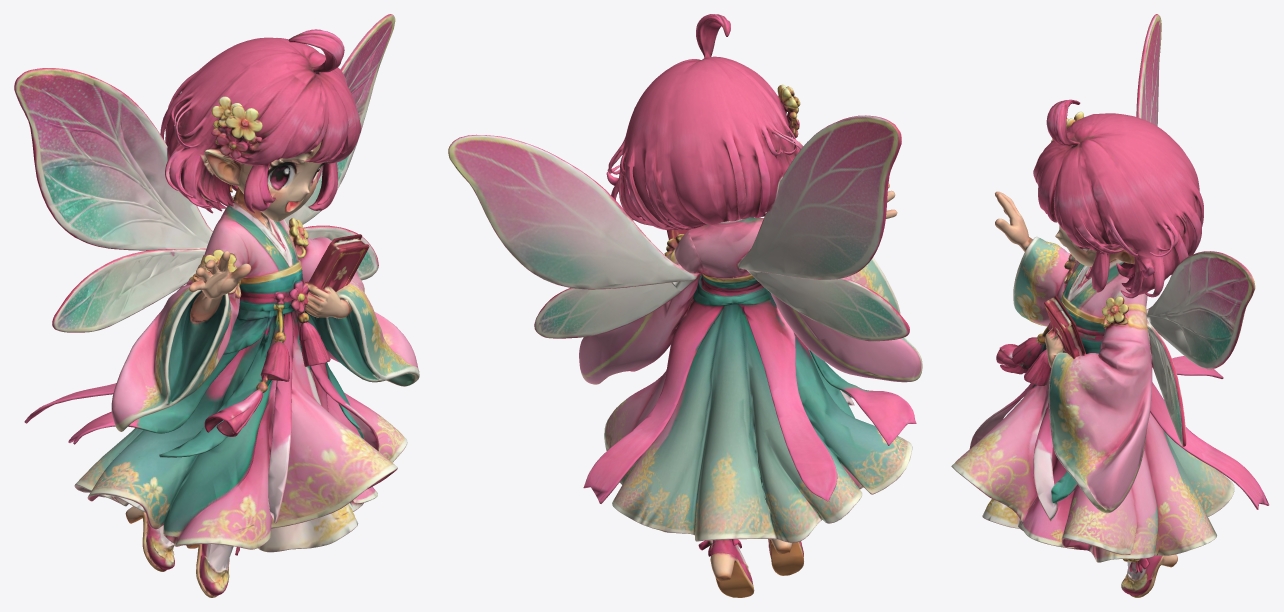
3 renders of one model, left to right at view 1: azimuth 30°, elevation 25°; view 2: azimuth 150°, elevation 25°; view 3: azimuth 270°, elevation 25°, orthographic. The views are drawn at different scales.
Parts seen in each view (by area): view 1: Shishi mascot; view 2: Shishi mascot; view 3: Shishi mascot.
Part boxes in pixels (box(x1,y1,x2,y2)): Shishi mascot: box(14, 14, 419, 597); Shishi mascot: box(448, 14, 922, 597); Shishi mascot: box(951, 14, 1269, 597).
Bounding box in the file's own units: 0.7659 × 0.9797 × 0.5404.
1 material, 1 textured.
